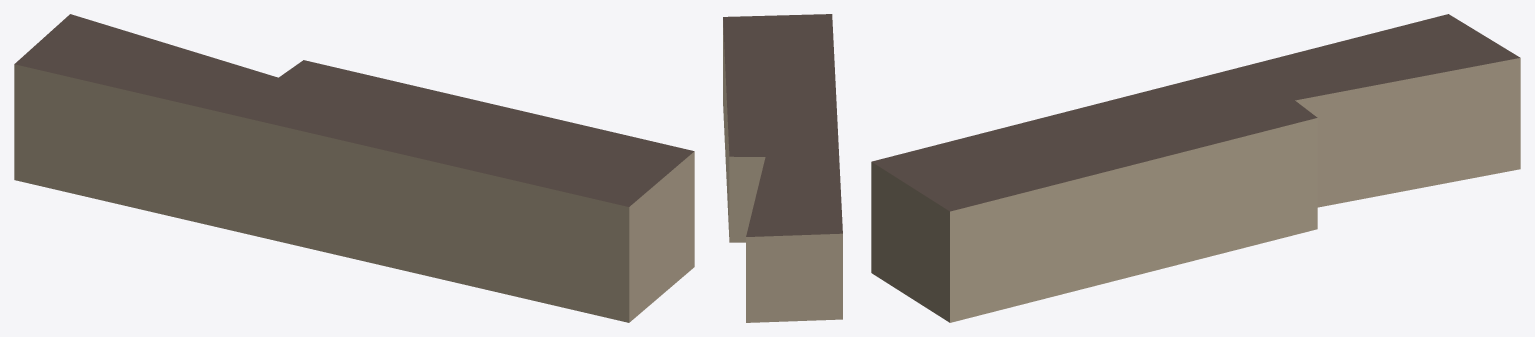
3 renders of one model, left to right at view 1: azimuth 30°, elevation 25°; view 2: azimuth 150°, elevation 25°; view 3: azimuth 270°, elevation 25°, orthographic. The views are drawn at different scales.
Parts seen in each view (by area): view 1: HP-w1512359764; view 2: HP-w1512359764; view 3: HP-w1512359764.
Part boxes in pixels (bbox=[...]): HP-w1512359764: bbox=[14, 14, 694, 322]; HP-w1512359764: bbox=[723, 14, 842, 322]; HP-w1512359764: bbox=[871, 14, 1520, 322].
Bounding box in the file's own units: 34.24 × 9 × 47.54.
